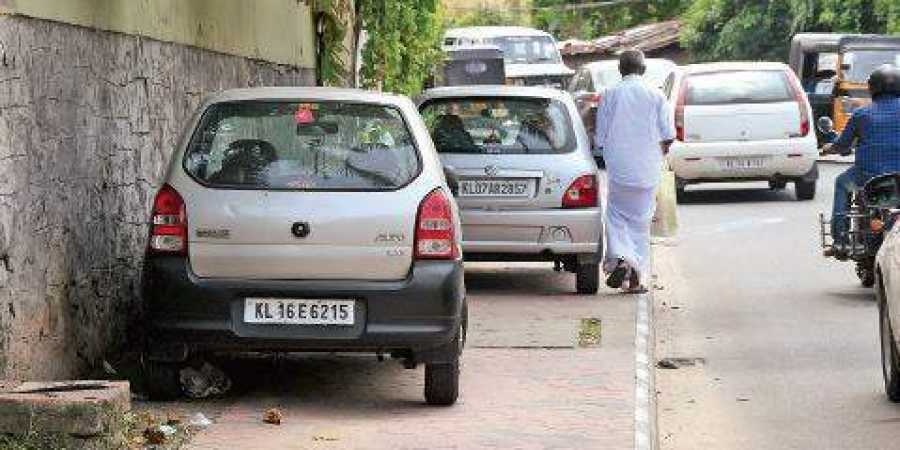numberplate: (240, 295, 357, 327), (460, 179, 532, 201)
